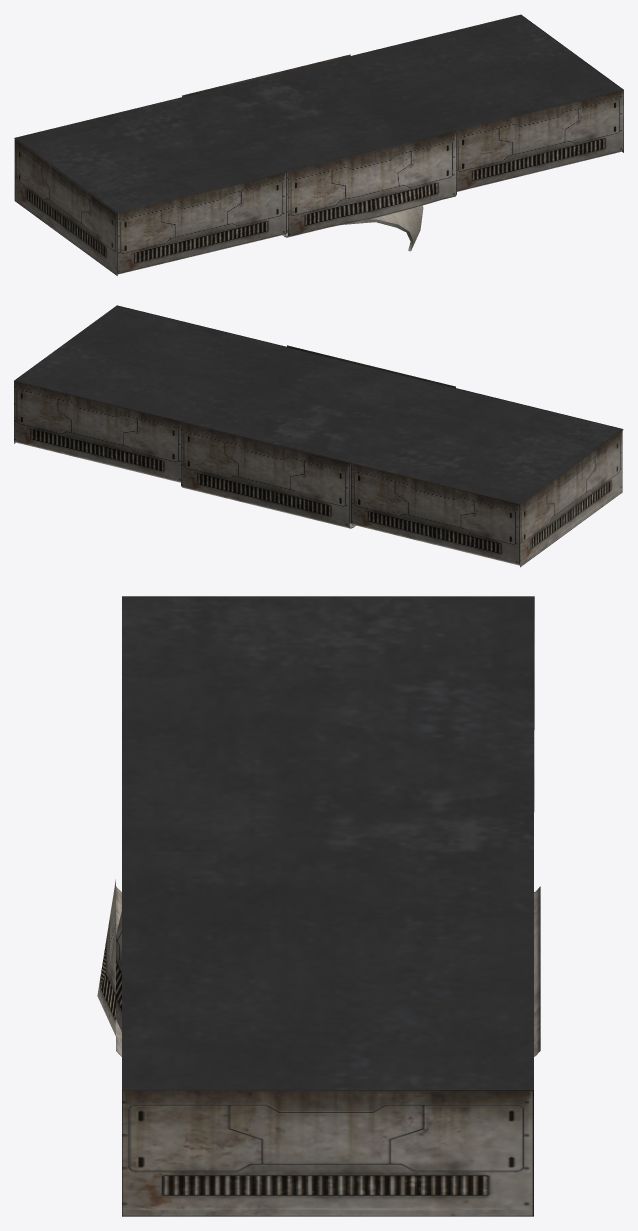
The model's file is lab_ceiling_box_broken01.dae.
3 views of the same model, one above another, from view 1: azimuth 30°, elevation 25°; view 2: azimuth 150°, elevation 25°; view 3: azimuth 270°, elevation 25° (orthographic). The views are drawn at different scales.
Visible parts, largest first — view 1: polySurface12; view 2: polySurface12; view 3: polySurface12.
Part boxes in pixels (x1,y1,x2,y2): polySurface12: (14, 14, 623, 275); polySurface12: (14, 305, 623, 567); polySurface12: (97, 596, 540, 1216).
Bounding box in the file's own units: 6.01 × 1.46 × 2.28.
